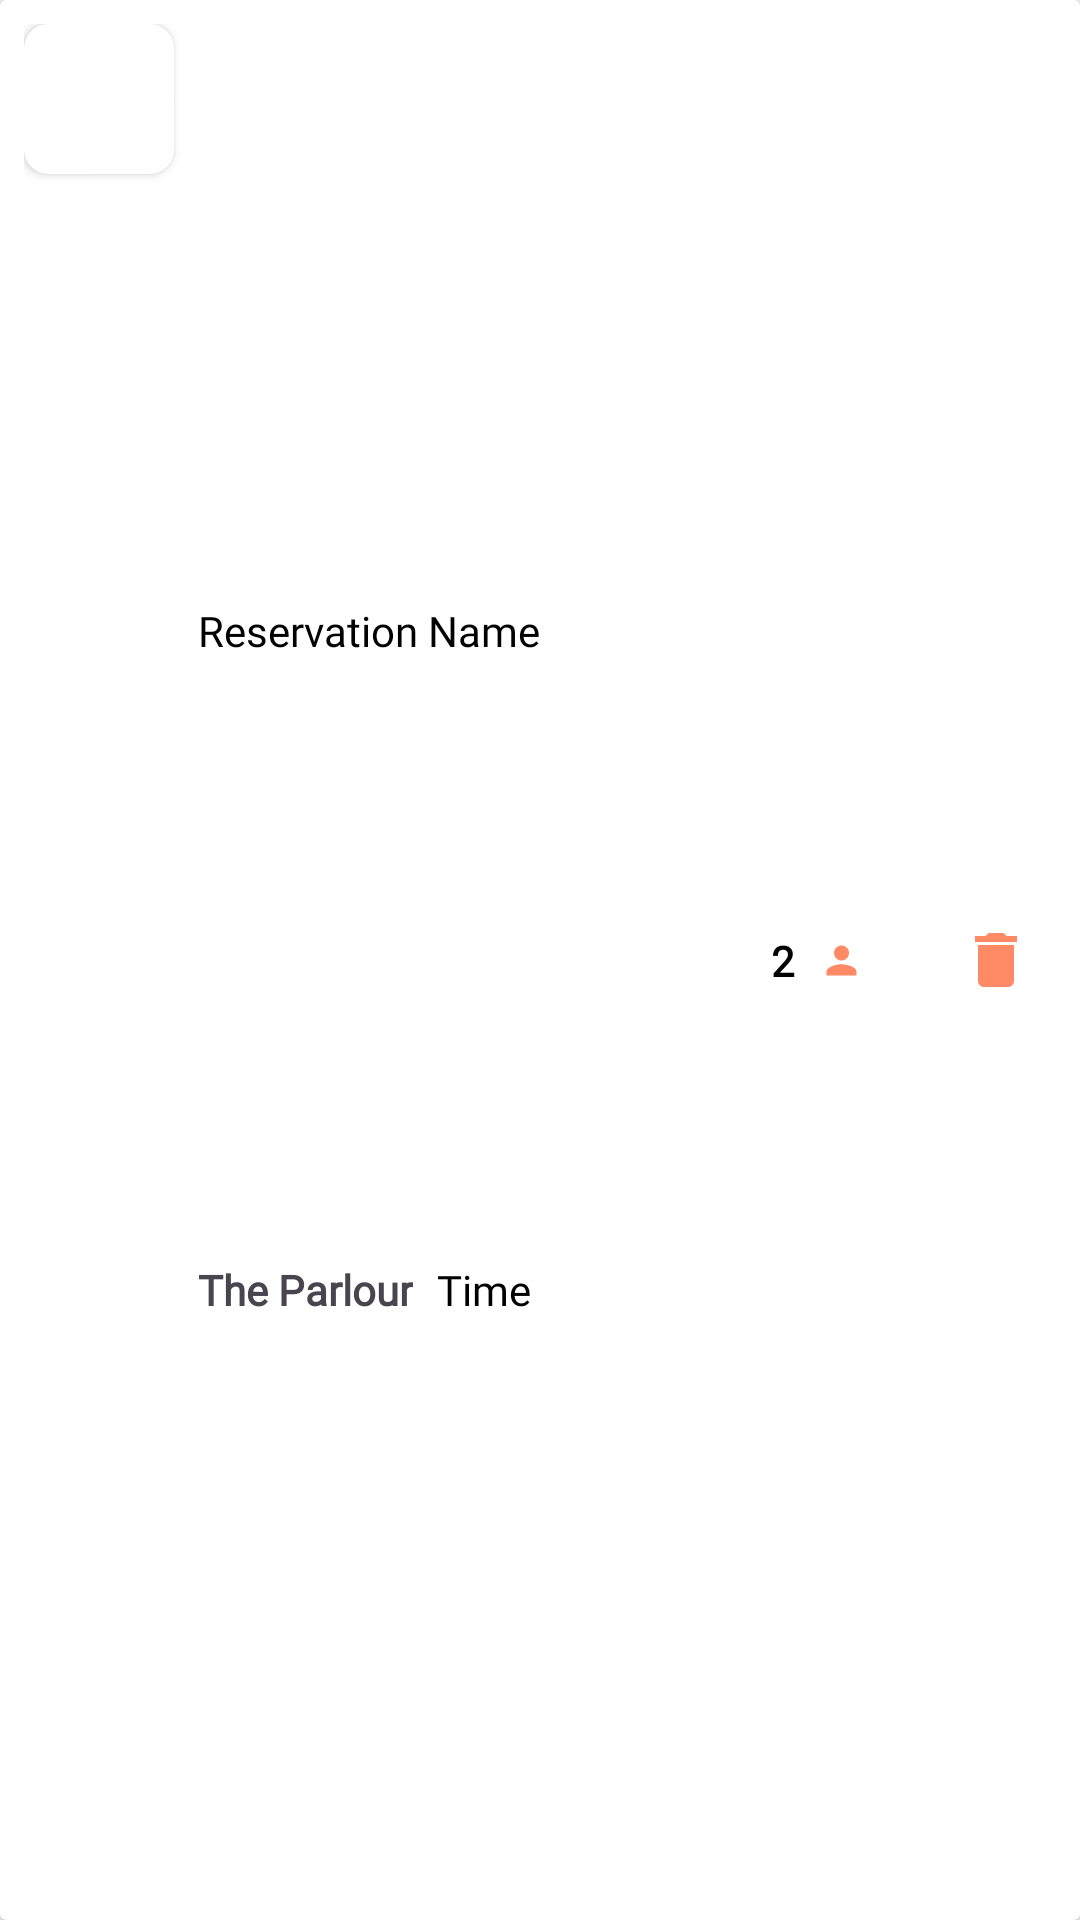

Icons on this 1080w x 1920h Android screen, each with the point to tap as (x=x, y=y):
delete: (x=996, y=960)
